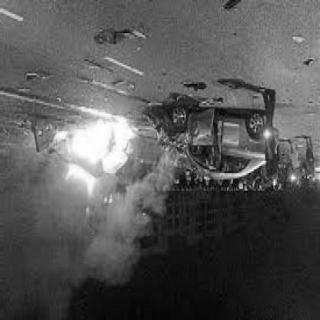Fire: (52, 101, 139, 196)
